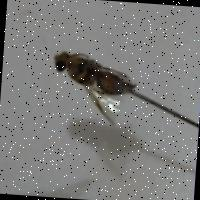Oriental-fruit-fly: (40, 37, 142, 137)
